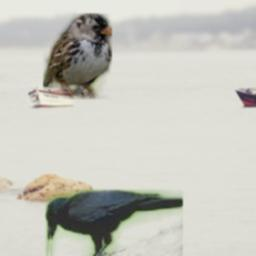Crow: (45, 189, 183, 256)
Sparrow: (43, 13, 112, 99)
